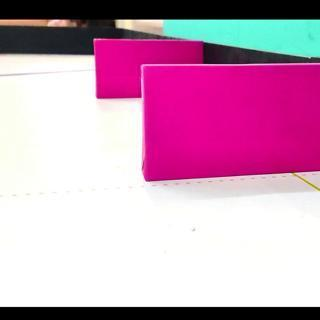xparking: (143, 66, 320, 184), (96, 41, 140, 98)
